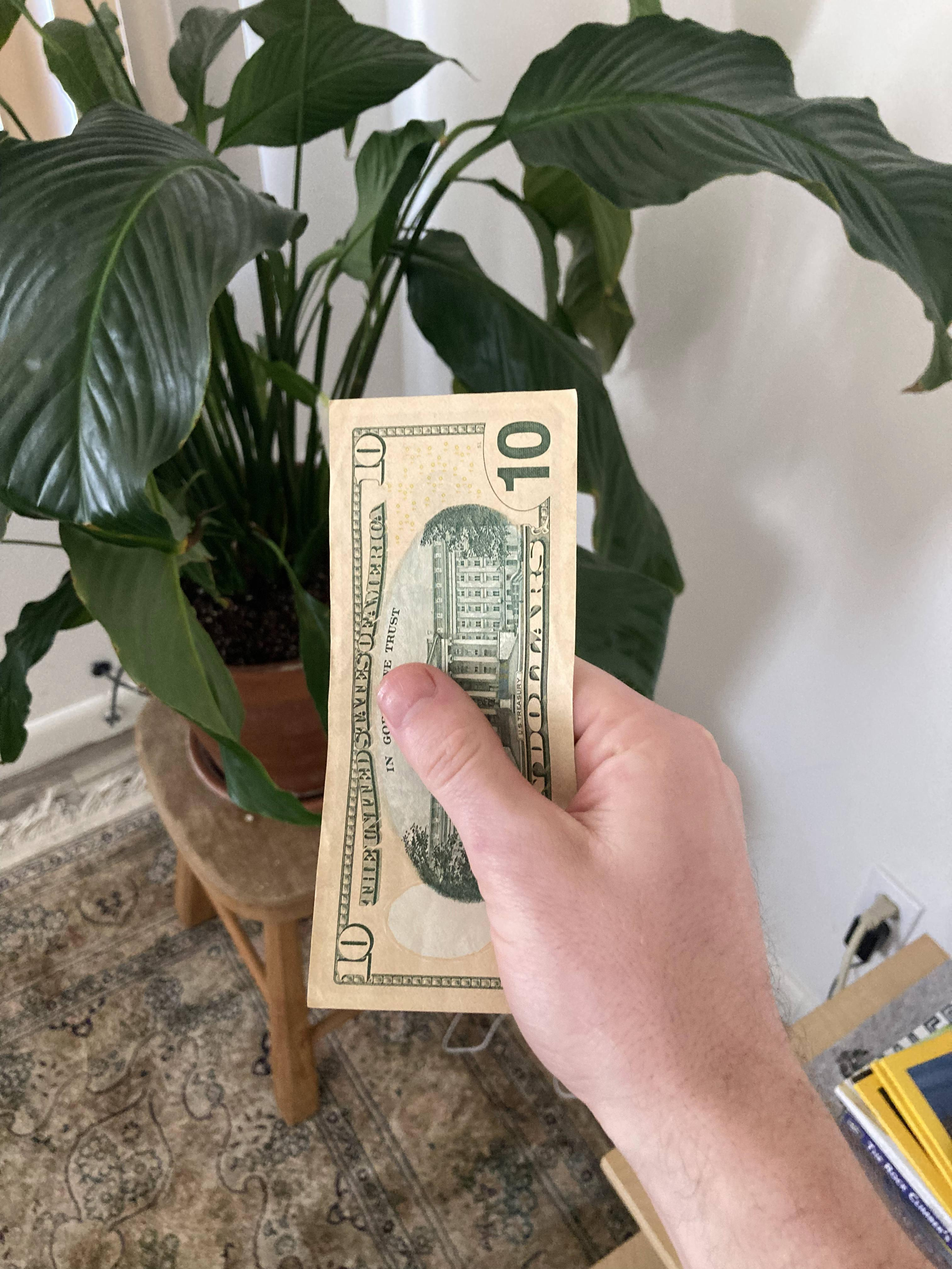ten-back: (307, 385, 590, 1014)
